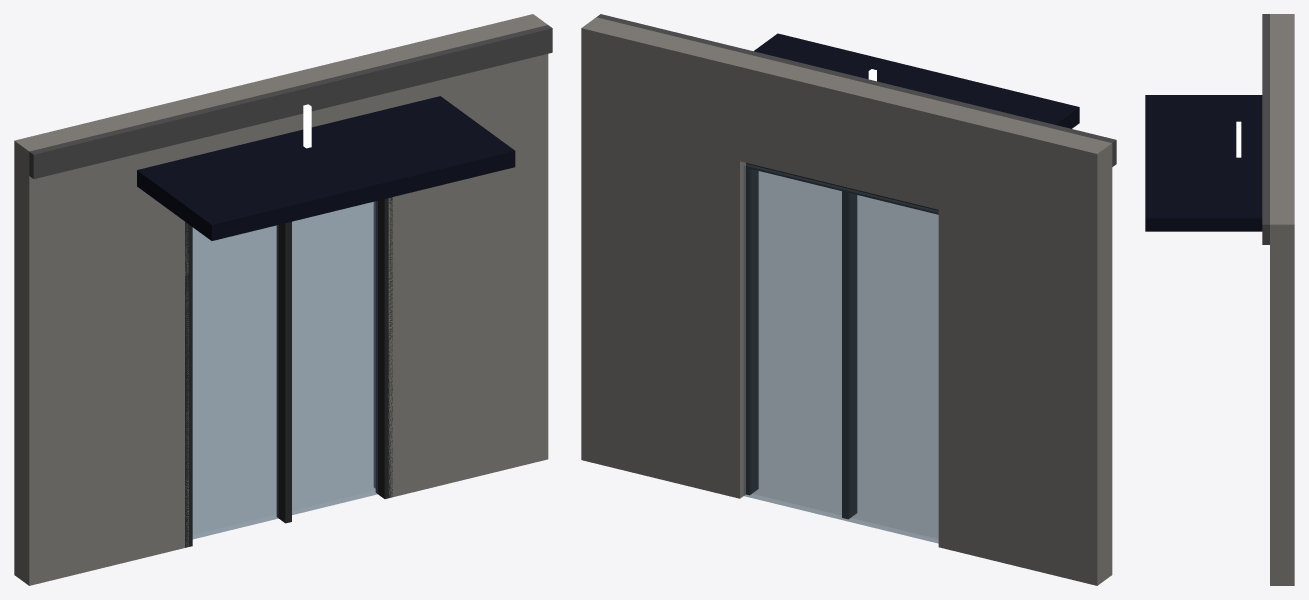
The model's file is KIT_Wall_4m_Door_Concrete.glb.
The picture shows the model from 3 angles, left to right: view 1: azimuth 30°, elevation 25°; view 2: azimuth 150°, elevation 25°; view 3: azimuth 270°, elevation 25°; orthographic projection. The views are drawn at different scales.
Parts seen in each view (by area): view 1: KIT_Wall_4m_Door_Concrete; view 2: KIT_Wall_4m_Door_Concrete; view 3: KIT_Wall_4m_Door_Concrete.
Boxes of the visible parts, box(x1,y1,x2,y2) form: KIT_Wall_4m_Door_Concrete: box(14, 14, 552, 585); KIT_Wall_4m_Door_Concrete: box(581, 14, 1116, 585); KIT_Wall_4m_Door_Concrete: box(1145, 14, 1294, 585).
Size of the model in its own units: 4 by 3.2 by 1.2.
